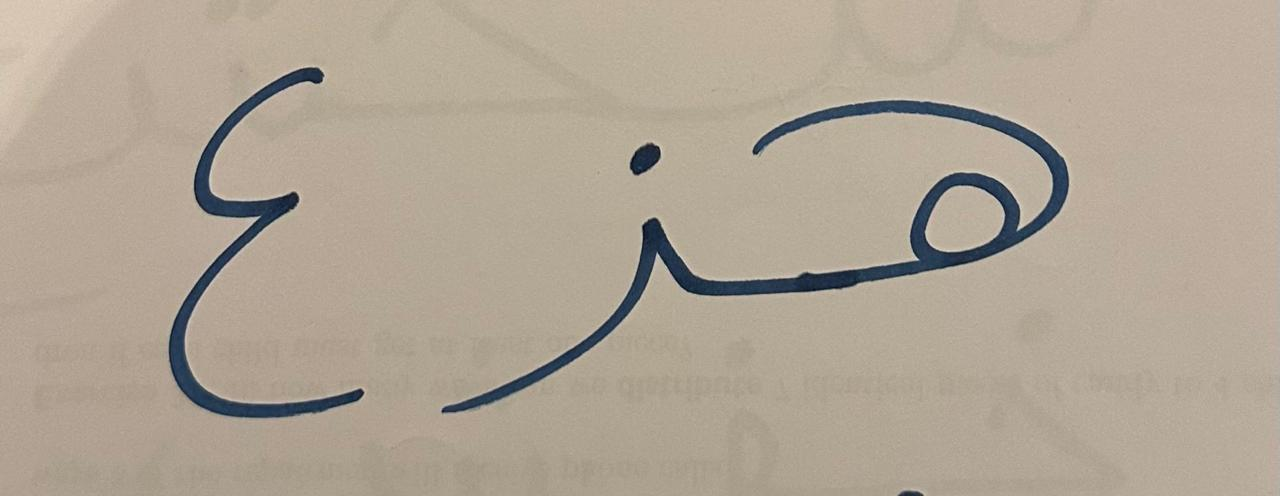ain: (98, 19, 377, 446)
hamza: (384, 52, 713, 437)
jeem: (717, 30, 1139, 365)
